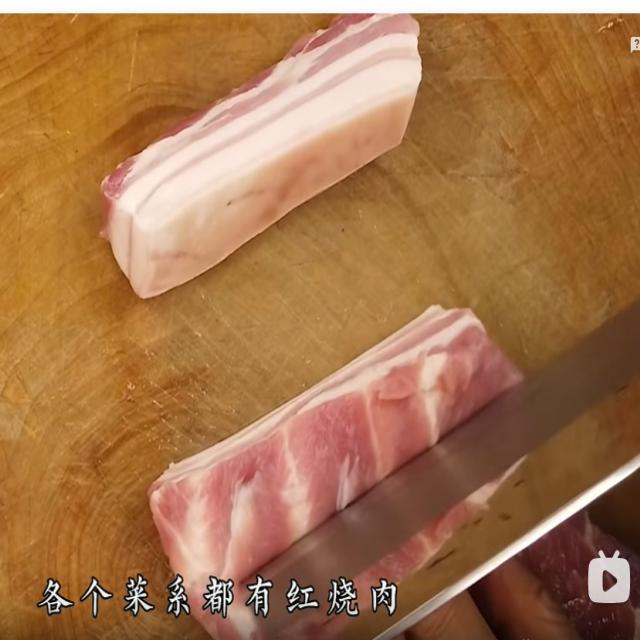--: (106, 17, 424, 298), (108, 305, 500, 532)
